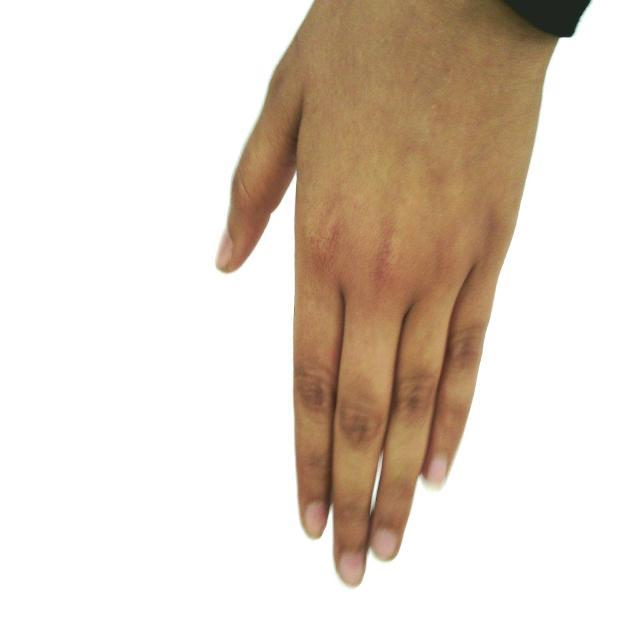Fingernail: (340, 554, 363, 588), (424, 457, 447, 491), (372, 531, 397, 561), (306, 503, 325, 538), (217, 232, 232, 270)
